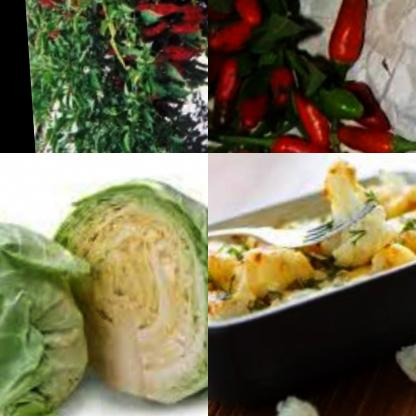brus capusta: (45, 175, 208, 416), (0, 192, 82, 416)
cayliflower: (208, 156, 416, 335), (386, 278, 416, 400), (235, 383, 323, 416)
hot pepper: (319, 0, 373, 80), (130, 0, 201, 58), (231, 75, 291, 134), (335, 77, 388, 143), (282, 90, 336, 153), (329, 118, 411, 153), (208, 56, 244, 112), (208, 22, 255, 64), (228, 0, 277, 38), (208, 30, 233, 97), (257, 140, 339, 153)
